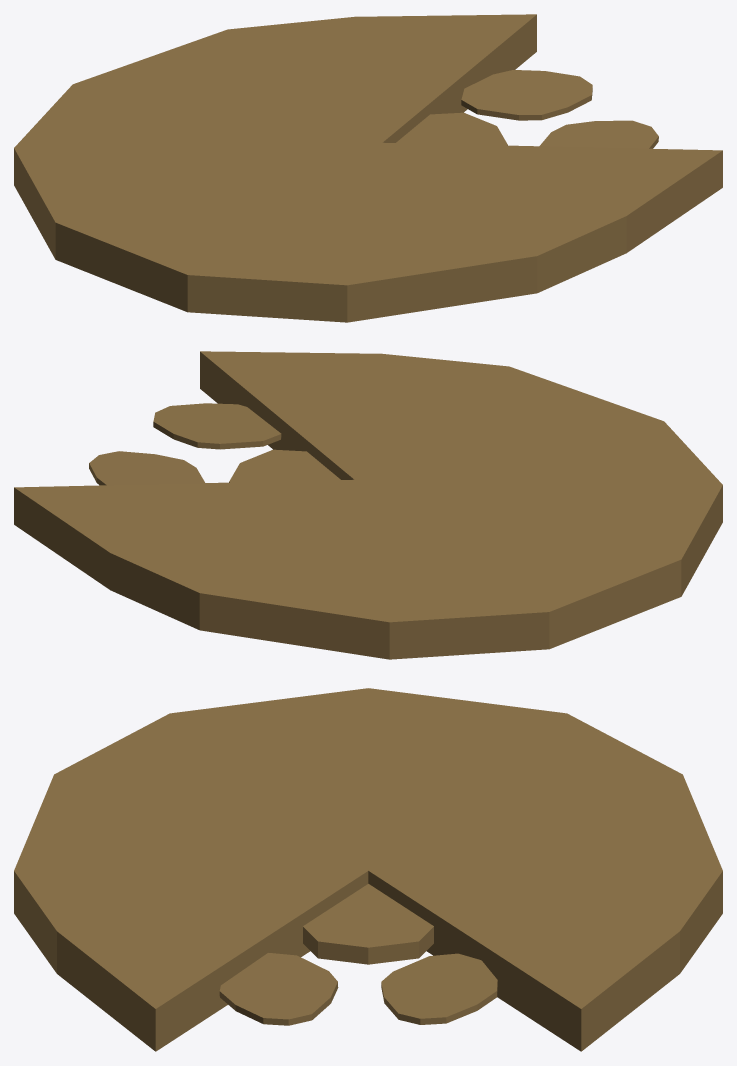
Rendered from animalPrints.fbx.
3 renders of one model, top to bottom at view 1: azimuth 30°, elevation 25°; view 2: azimuth 150°, elevation 25°; view 3: azimuth 270°, elevation 25°, orthographic. The views are drawn at different scales.
Parts seen in each view (by area): view 1: donkeyTrack, wildCatTrack; view 2: donkeyTrack, wildCatTrack; view 3: donkeyTrack, wildCatTrack.
Boxes of the visible parts, left/top/right/bottom form: donkeyTrack: left=14, top=14, right=722, bottom=322; wildCatTrack: left=396, top=70, right=658, bottom=148; donkeyTrack: left=14, top=351, right=722, bottom=659; wildCatTrack: left=89, top=403, right=340, bottom=485; donkeyTrack: left=14, top=688, right=722, bottom=1051; wildCatTrack: left=219, top=884, right=497, bottom=1025.
Size of the model in its own units: 238 by 14.77 by 222.
